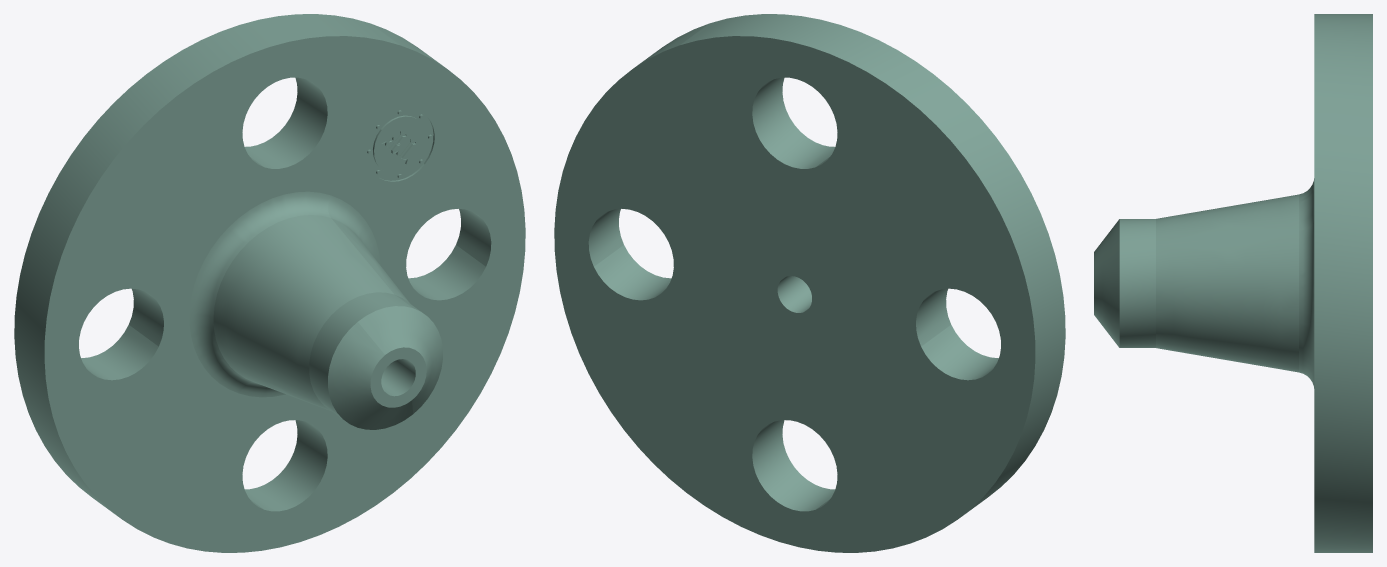
Rendered from 0.5-150-WELD-NECK-FF-XXH-FLANGE.glb.
The picture shows the model from 3 angles, left to right: view 1: azimuth 30°, elevation 25°; view 2: azimuth 150°, elevation 25°; view 3: azimuth 270°, elevation 25°; orthographic projection. The views are drawn at different scales.
Visible parts, largest first — view 1: empty_2; view 2: empty_2; view 3: empty_2.
Boxes of the visible parts, bbox=[...] form: empty_2: bbox=[14, 14, 525, 552]; empty_2: bbox=[554, 14, 1065, 552]; empty_2: bbox=[1094, 14, 1372, 552].
Size of the model in its own units: 0.0889 by 0.0889 by 0.046.
